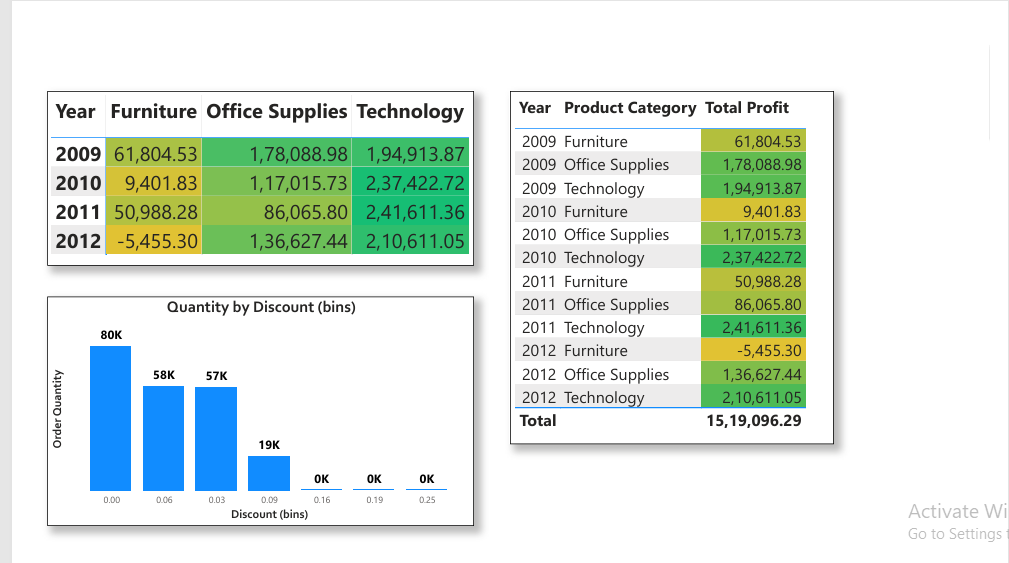

This screenshot's page, from the dashboard's own definition file:
{"tool":"powerbi","page":{"name":"Page 3","canvas":[1280,720],"ordinal":2},"visuals":[{"type":"pivotTable","fields":{"Rows":["Superstore Sales report.Order Date.Variation.Date Hierarchy.Year"],"Values":["Superstore Sales report.Total Profit"],"Columns":["Superstore Sales report.Product Category"]},"box":[23.4,96.3,568.4,232.6],"z":0},{"type":"tableEx","fields":{"Values":["Superstore Sales report.Order Date.Variation.Date Hierarchy.Year","Superstore Sales report.Product Category","Superstore Sales report.Total Profit"]},"box":[640,96.3,432.2,470.7],"z":1000},{"type":"columnChart","title":" Quantity by Discount (bins)","fields":{"Category":["Superstore Sales report.Discount (bins)"],"Y":["Sum(Superstore Sales report.Order Quantity)"]},"box":[23.4,370.2,568.4,305.5],"z":2000}]}

Visuals, with their boxes in screenshot pixels (x1, y1, x2, y2):
pivotTable - Superstore Sales report.Order Date.Variation.Date Hierarchy.Year x Superstore Sales report.Total Profit: <box>52,90,474,263</box>
tableEx - Superstore Sales report.Order Date.Variation.Date Hierarchy.Year x Superstore Sales report.Product Category: <box>510,90,831,440</box>
" Quantity by Discount (bins)" columnChart: <box>52,293,474,520</box>
